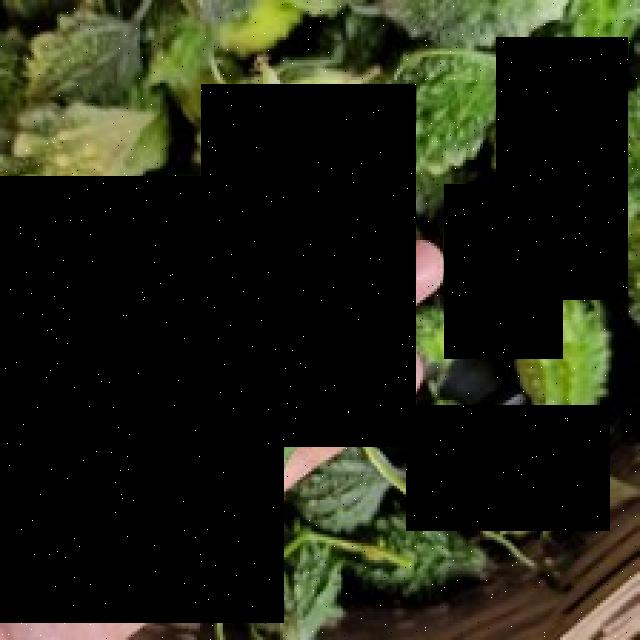Bitter_Gourd: (0, 176, 284, 623), (201, 84, 416, 447), (496, 38, 628, 301), (406, 405, 610, 531), (445, 184, 564, 359)
